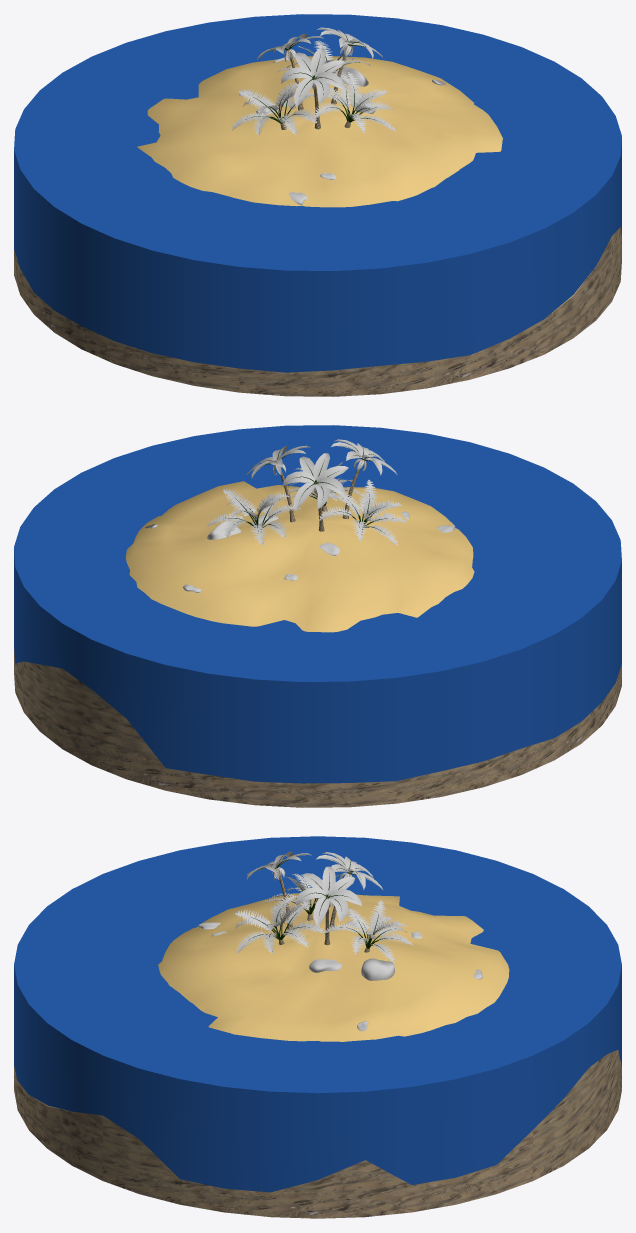
The model's file is palm_island_OBJ.obj.
The picture shows the model from 3 angles, top to bottom: view 1: azimuth 30°, elevation 25°; view 2: azimuth 150°, elevation 25°; view 3: azimuth 270°, elevation 25°; orthographic projection.
Visible parts, largest first — view 1: water, ground_hight, ground; view 2: water, ground_hight, ground; view 3: water, ground_hight, ground, Box007.
Boxes of the visible parts, left/top/right/bottom form: water: left=14, top=14, right=621, bottom=372; ground_hight: left=137, top=56, right=502, bottom=207; ground: left=14, top=227, right=621, bottom=396; water: left=14, top=425, right=621, bottom=783; ground_hight: left=125, top=481, right=474, bottom=632; ground: left=14, top=648, right=621, bottom=807; water: left=14, top=836, right=621, bottom=1192; ground_hight: left=158, top=893, right=509, bottom=1041; ground: left=14, top=1050, right=621, bottom=1218; Box007: left=361, top=958, right=394, bottom=980.
Size of the model in its own units: 5000 by 2094 by 5000.
